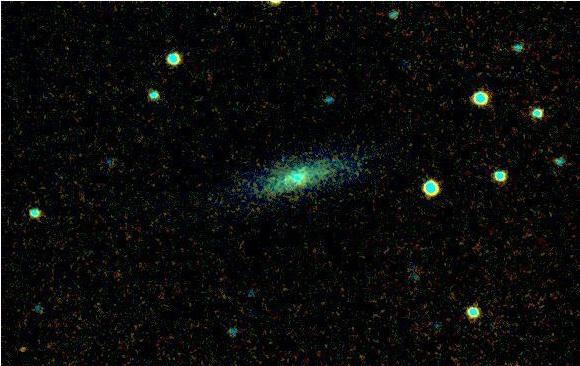star: (6, 335, 36, 365)
